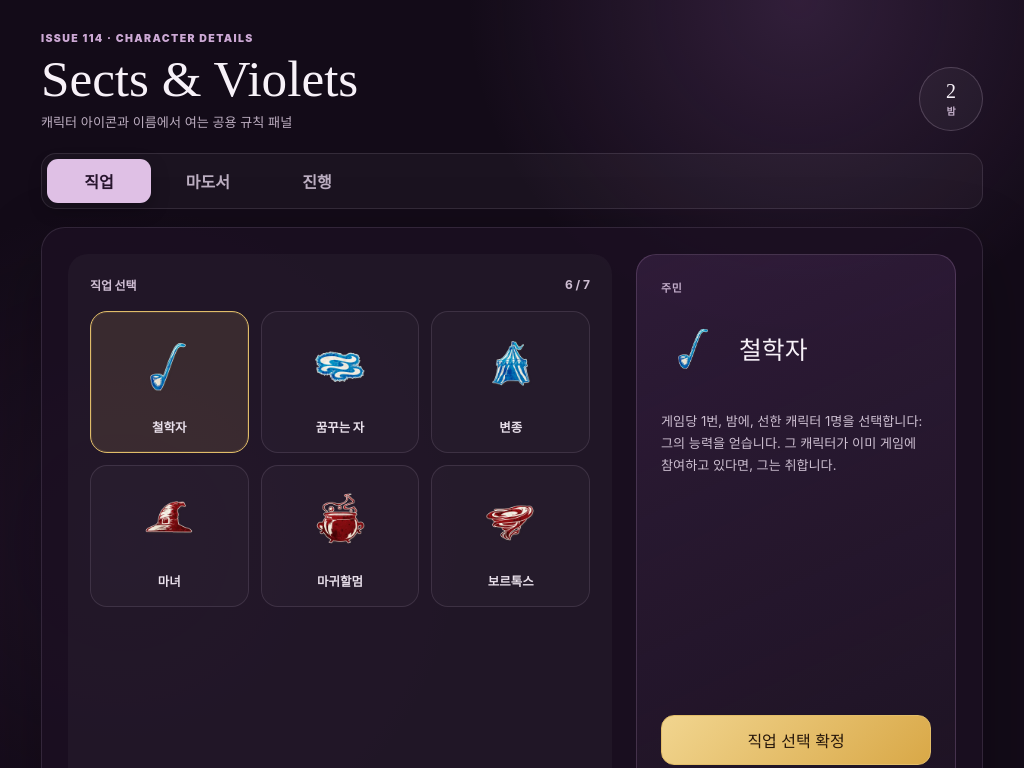
it: opens the same rich panel from the current actor identity
Click the button "진행" at coordinates (317, 181), box [265, 159, 369, 203]
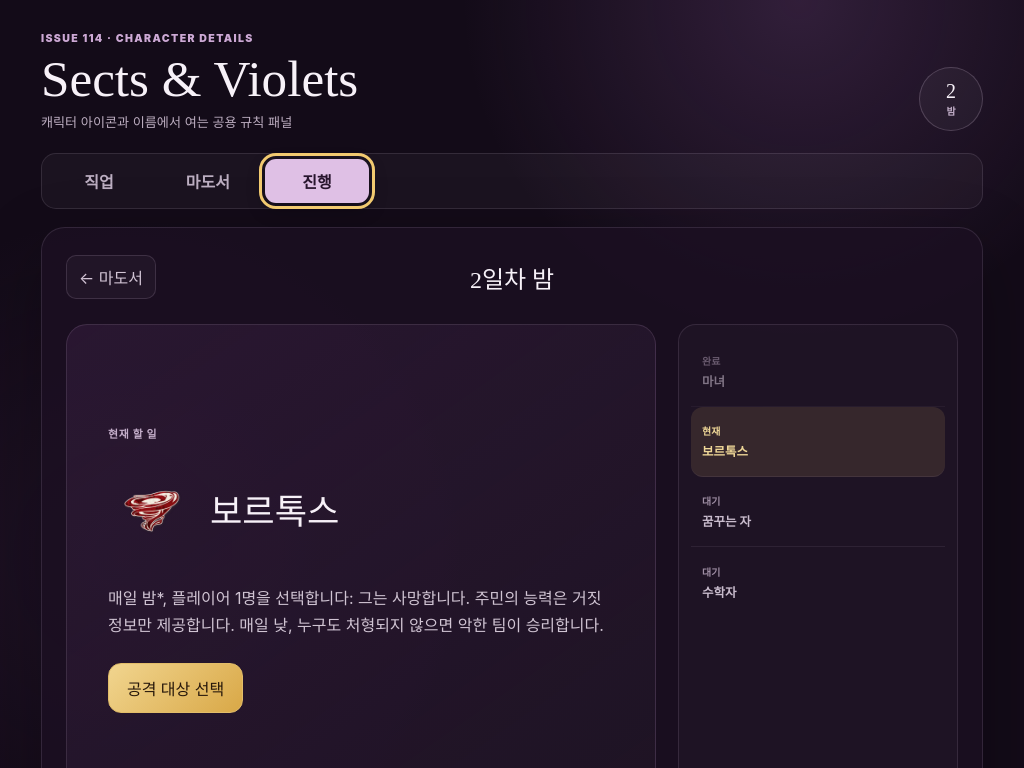
Check: the text "보르톡스" below "현재 할 일" is shown, box [210, 492, 339, 532]
Click the button with aria-label "보르톡스 캐릭터 상세 열기" at coordinates (224, 508), box [100, 455, 348, 561]
(page scrolled)
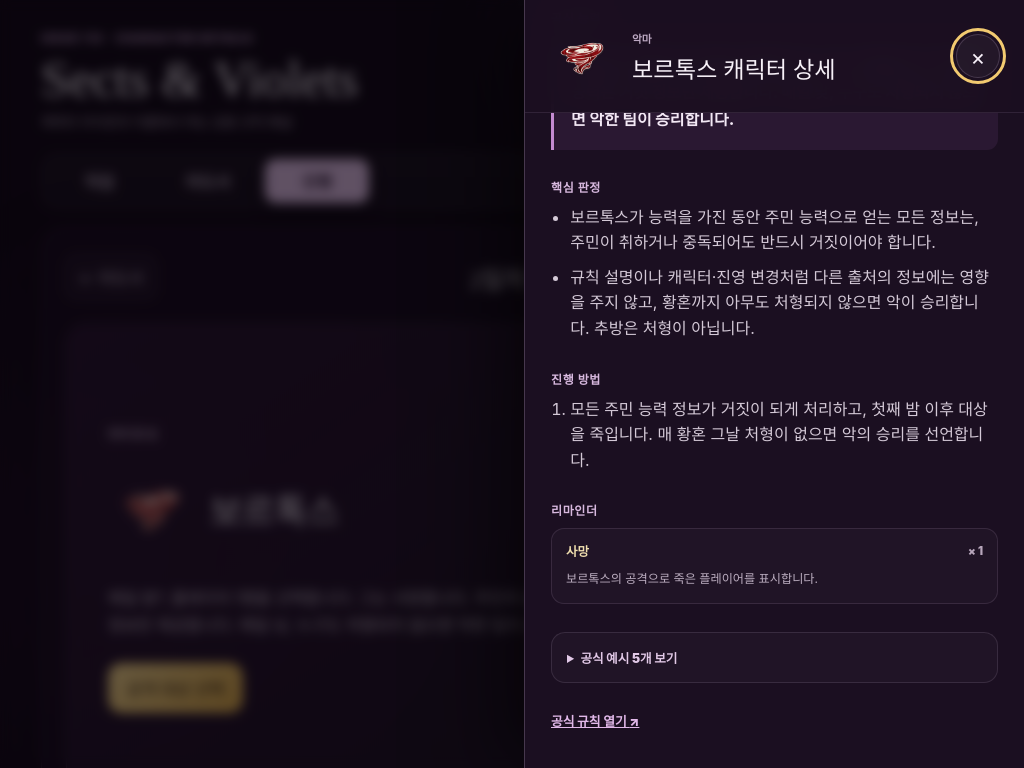
Check: the heading "공식 예시 5개 보기" is shown, box [580, 651, 677, 666]
Press Escape
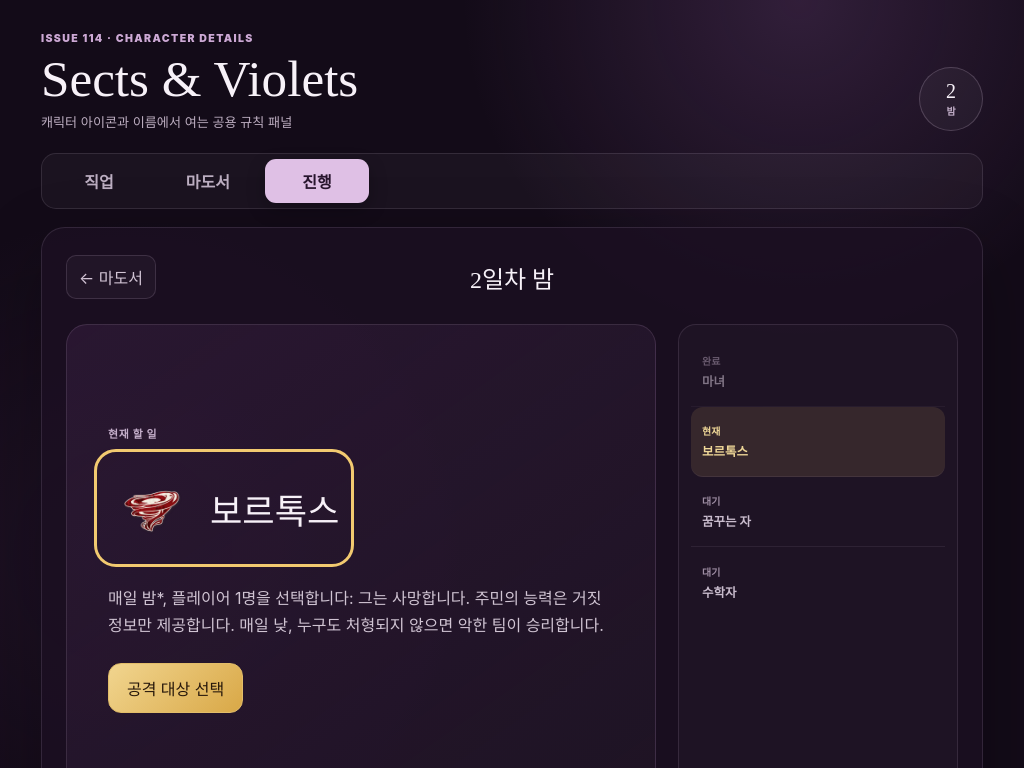
Check: the heading "보르톡스 캐릭터 상세" is gone
